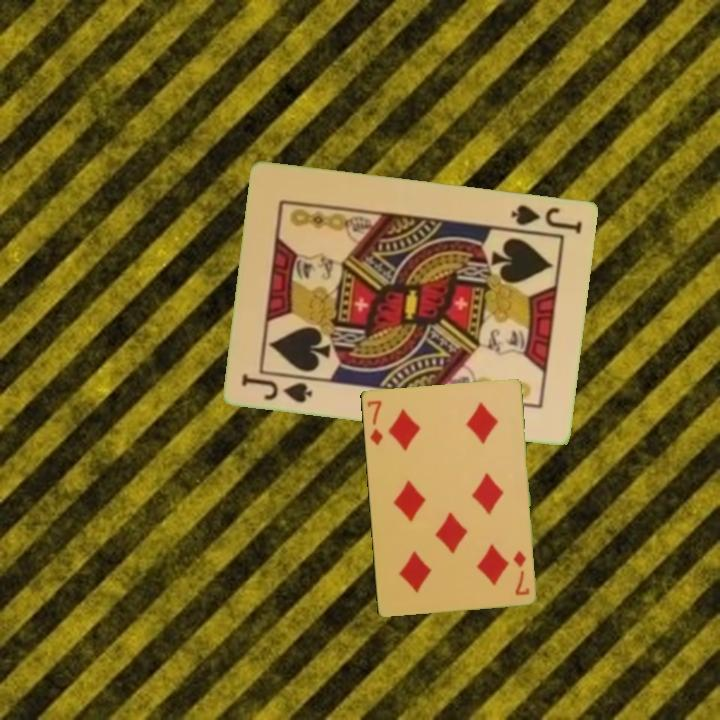7d: (363, 396, 386, 448), (509, 547, 532, 598)
Js: (238, 369, 319, 406), (508, 201, 585, 237)
